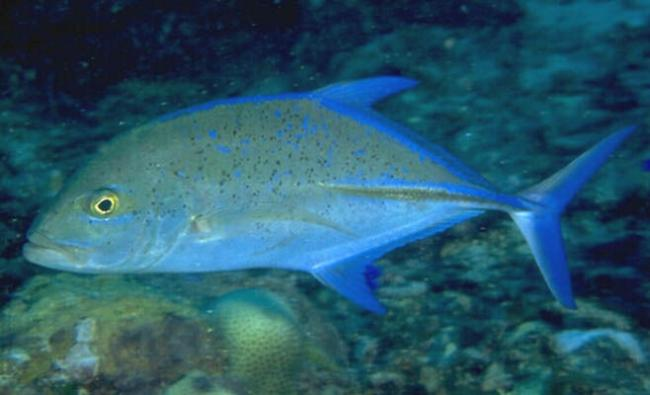fish: (24, 76, 636, 314)
